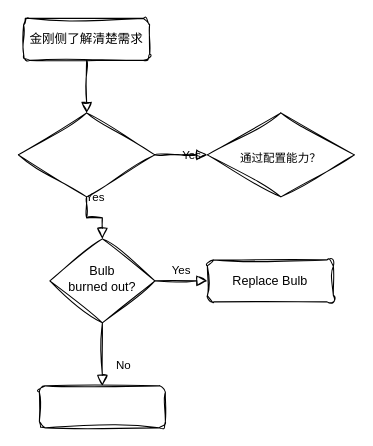
Image size: 373x446. Some labels were removed from this diagram. The shapes that lost their labels are listed below. From the top down, each one's box as (x1, y1, x2, y2) in pixels, then its label:
(17, 112, 155, 197): 是否可以不用开发
(38, 385, 165, 428): Repair Lamp
